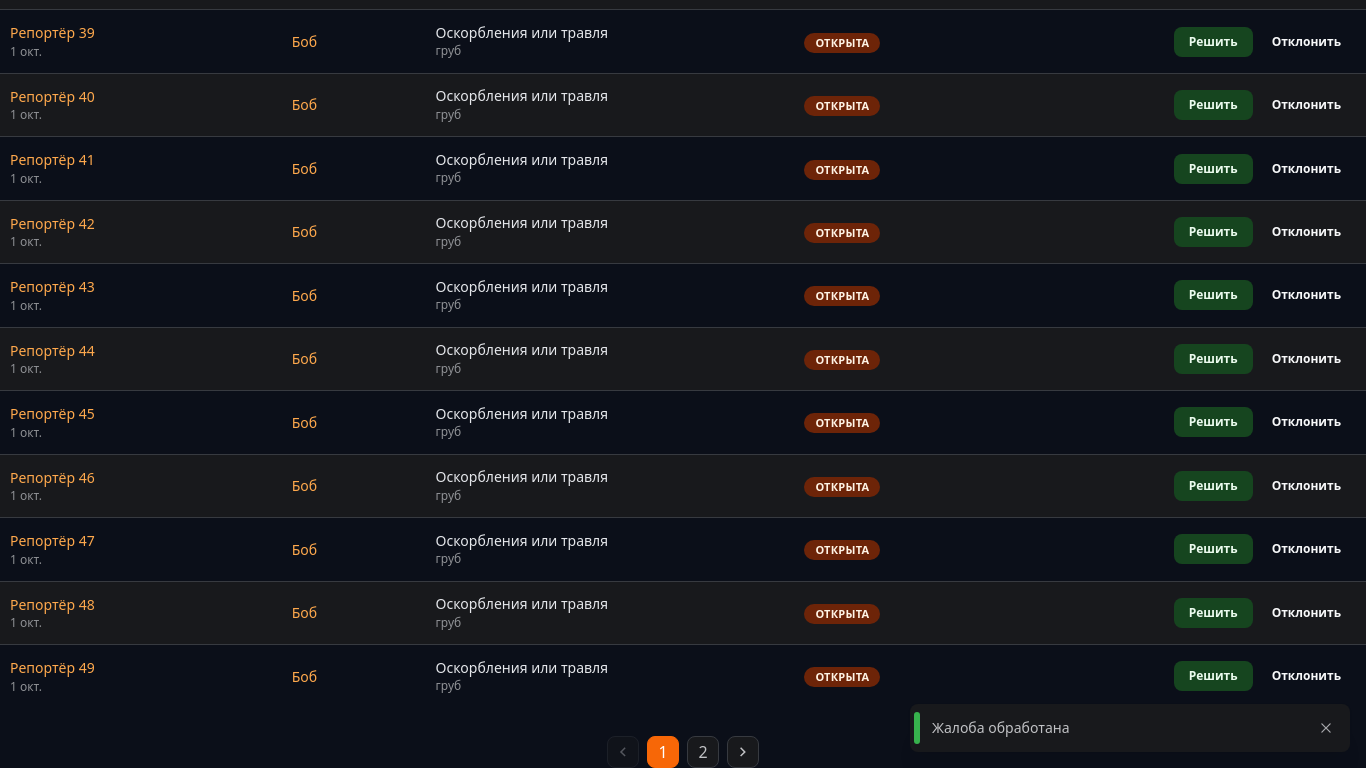
Test case: ReportsPage › clamps to the last page when resolving the sole report on the final page
The width and height of the screenshot is (1366, 768).
(page scrolled)
Click the button "2": x=703, y=752 left=687, top=736, right=719, bottom=767
(page scrolled)
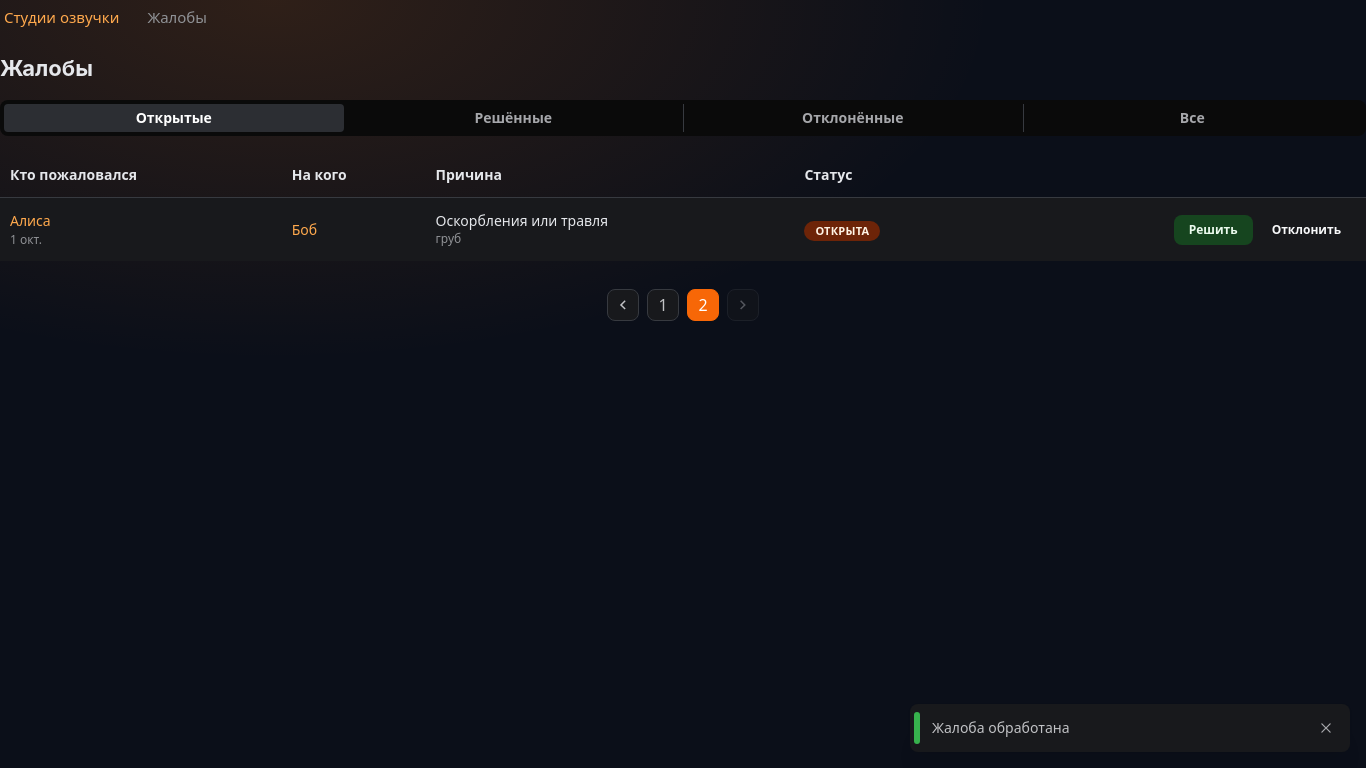
Click the button "Решить": x=1213, y=230 left=1174, top=215, right=1253, bottom=245
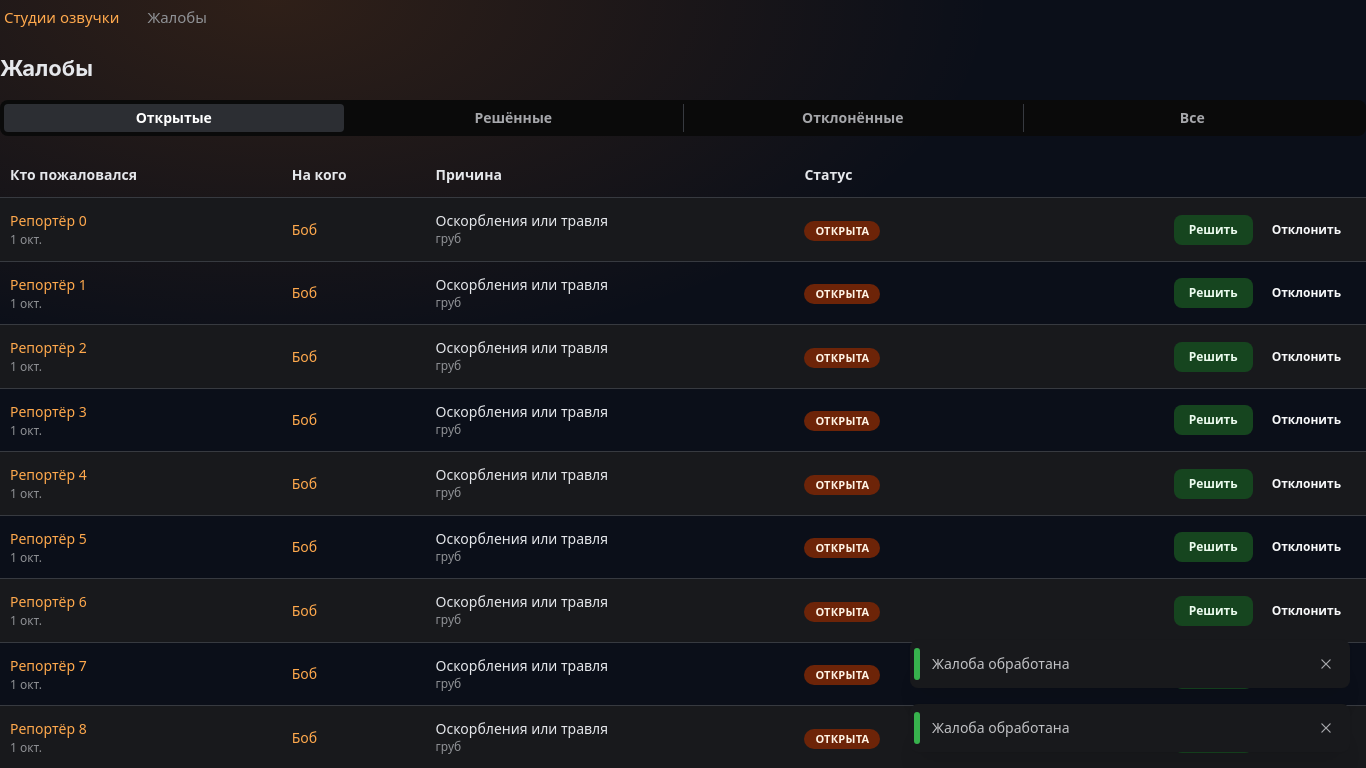
expect the link "Репортёр 0" is shown: met, box left=10, top=211, right=87, bottom=230
